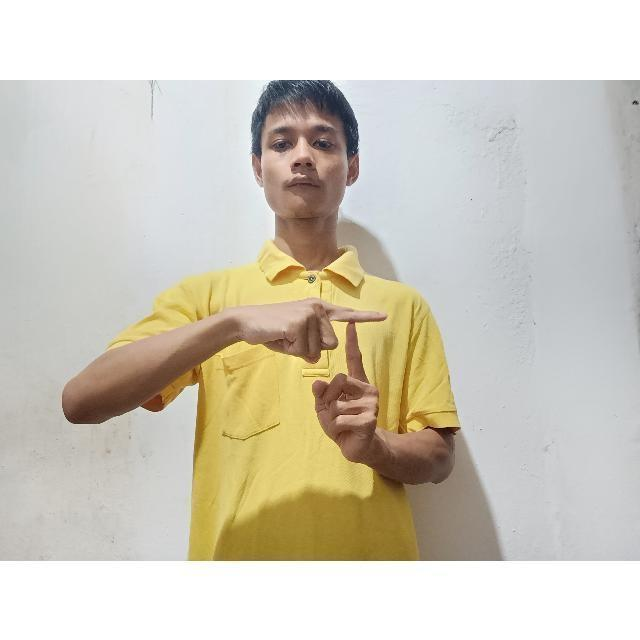T: (287, 284, 408, 462)
